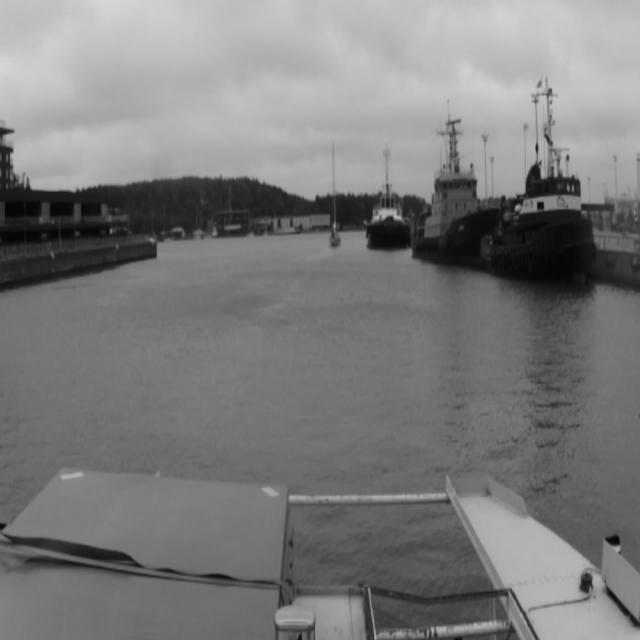ship: (500, 84, 598, 276), (416, 122, 500, 271), (367, 142, 408, 252), (324, 139, 344, 248)
